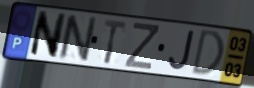D: (189, 28, 226, 77)
J: (167, 29, 196, 73)
N: (57, 14, 99, 64), (27, 9, 68, 60)
T: (102, 18, 129, 66)
Z: (123, 21, 161, 72)
